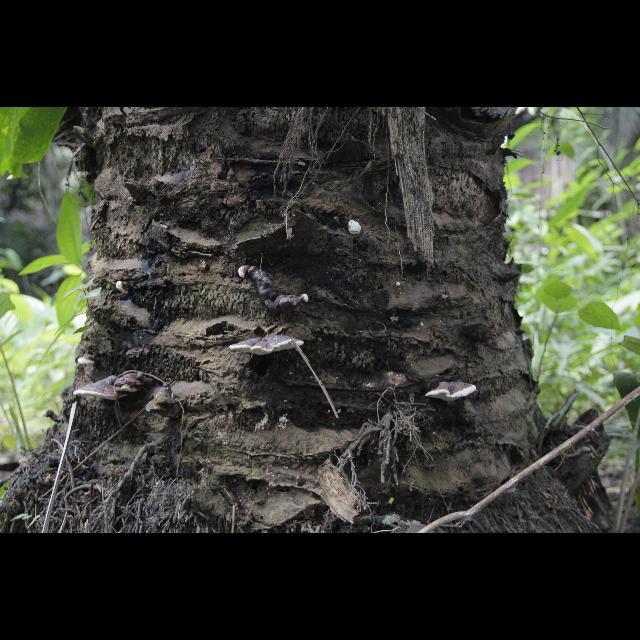ganoderma: (251, 267, 302, 317), (231, 335, 306, 357), (74, 376, 130, 402), (426, 383, 478, 404), (114, 374, 158, 394), (79, 356, 102, 367)
primordium: (348, 221, 362, 235), (117, 282, 132, 295), (239, 267, 249, 280), (43, 410, 55, 420), (302, 294, 311, 304), (397, 283, 401, 288)
